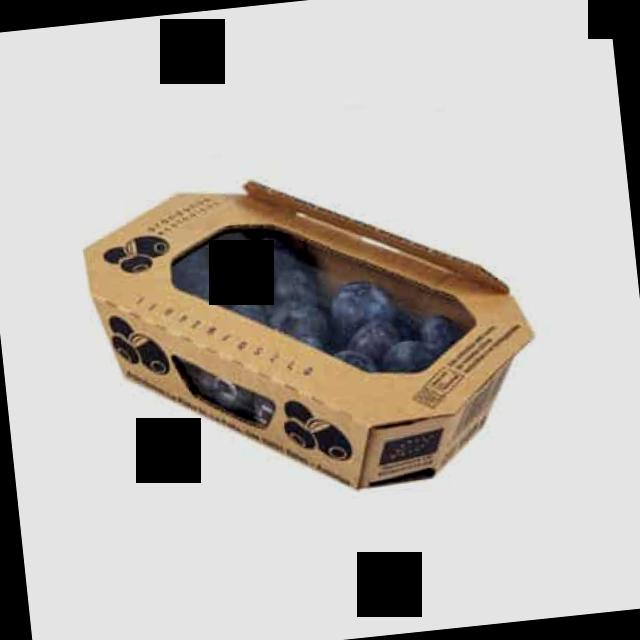blueberry: (81, 181, 536, 492)
